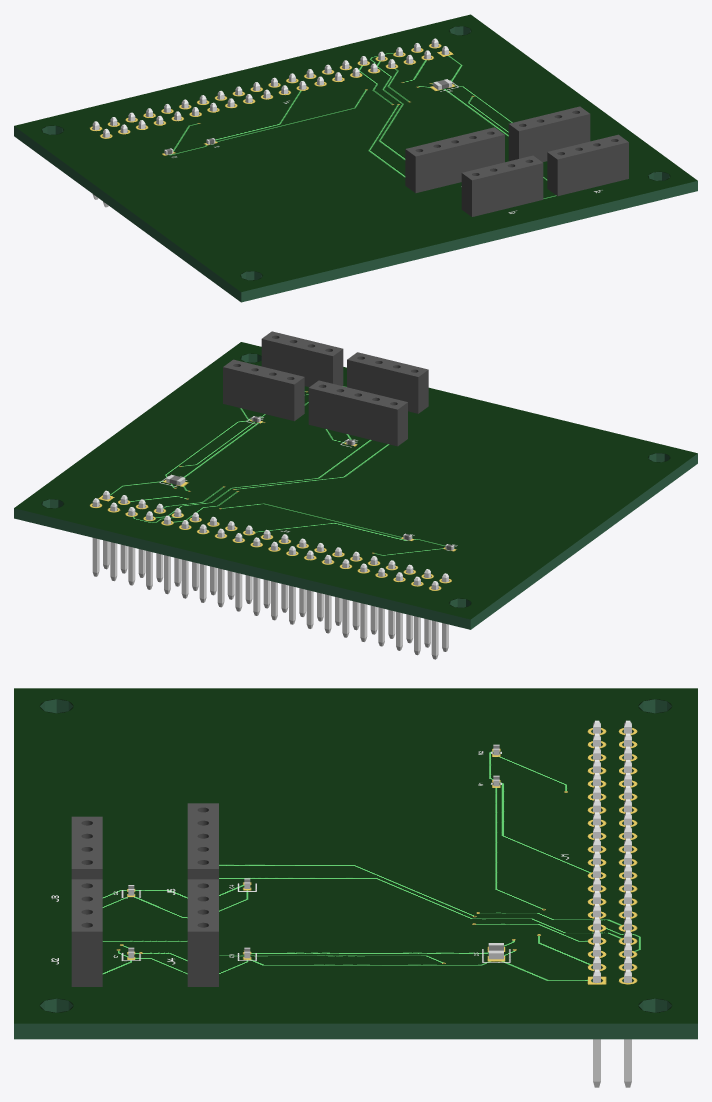
File: t1-board.glb
3 views of the same model, one above another, from view 1: azimuth 30°, elevation 25°; view 2: azimuth 150°, elevation 25°; view 3: azimuth 270°, elevation 25° (orthographic). The views are drawn at different scales.
Visible parts, largest first — view 1: Box0, J5, J3, J2, J4, J1; view 2: Box0, J1, J5, J4, J3, J2; view 3: Box0, J1, J2, J4, J5, J3.
Boxes of the visible parts, x1,y1,x2,y2 form: Box0: (14,14,697,302); J5: (405,127,504,193); J3: (461,155,543,216); J2: (547,134,628,196); J4: (508,106,590,162); J1: (92,38,448,207); Box0: (14,342,697,629); J1: (92,490,448,659); J5: (308,380,407,446); J4: (223,359,304,421); J3: (347,352,428,413); J2: (261,331,343,387); Box0: (14,688,697,1039); J1: (593,720,631,1087); J2: (71,879,102,986); J4: (187,879,218,986); J5: (187,803,218,879); J3: (71,816,102,879).
Size of the model in its own units: 65 by 14.6 by 56.
Materials: 8 (2 with a texture image).
